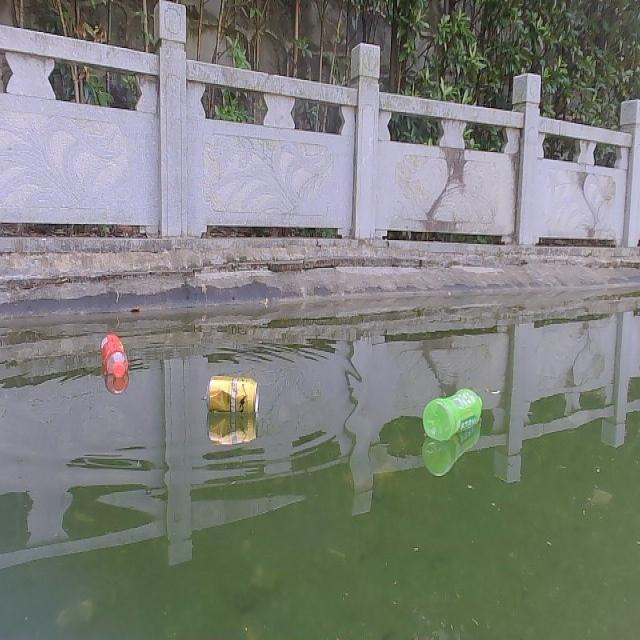bottle: (422, 386, 484, 442), (98, 332, 128, 379)
can: (205, 373, 259, 416)
